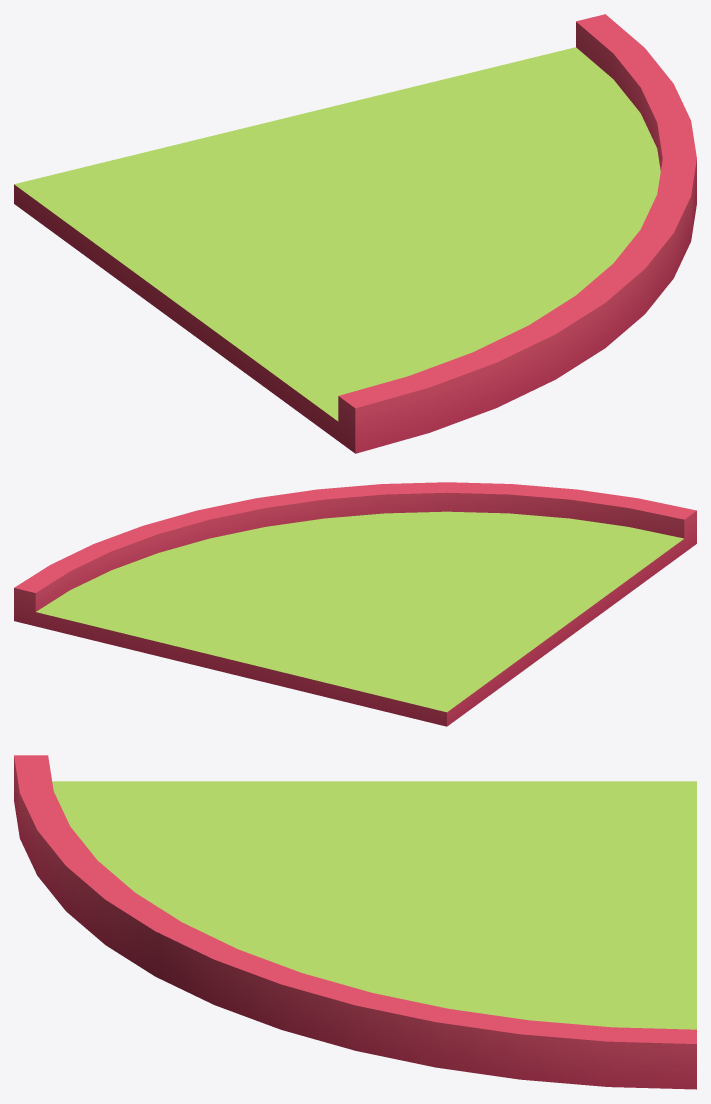
File: round-large-corner-open.gltf
The picture shows the model from 3 angles, top to bottom: view 1: azimuth 30°, elevation 25°; view 2: azimuth 150°, elevation 25°; view 3: azimuth 270°, elevation 25°; orthographic projection. The views are drawn at different scales.
Parts seen in each view (by area): view 1: round-large-corner-open; view 2: round-large-corner-open; view 3: round-large-corner-open.
Part boxes in pixels (x1,y1,x2,y2): round-large-corner-open: (14,14,696,453); round-large-corner-open: (14,482,696,726); round-large-corner-open: (14,755,696,1089).
Size of the model in its own units: 2 by 0.1467 by 2.
Materials: 1 (1 with a texture image).
